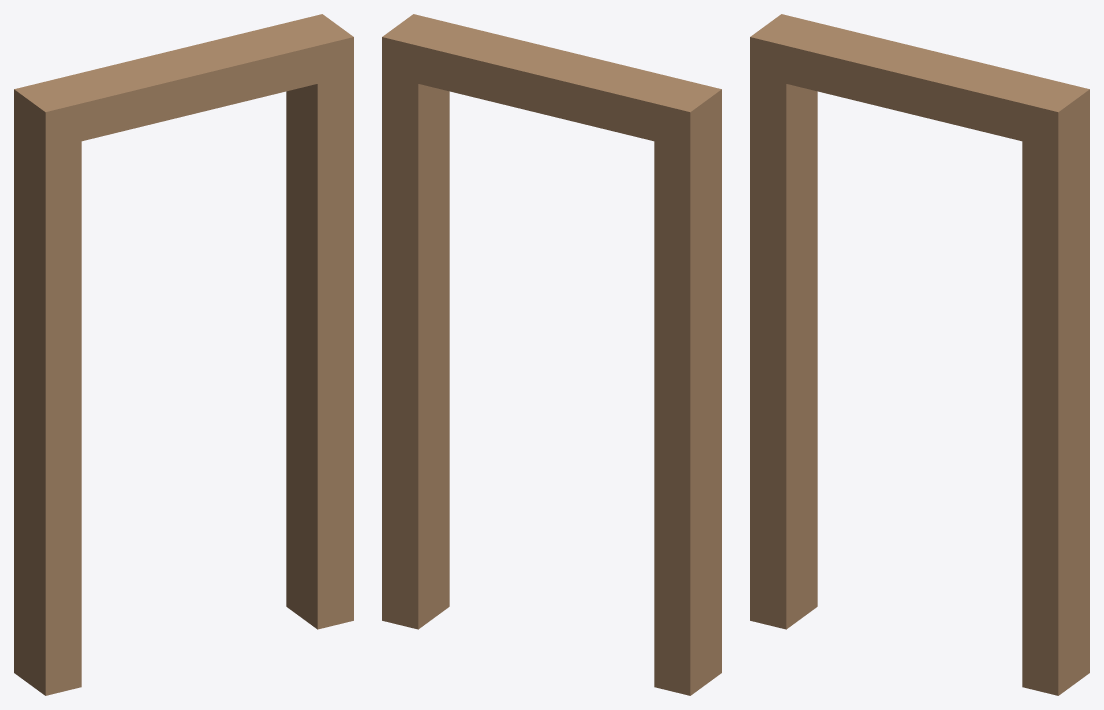
The model's file is b-doorframe.glb.
3 renders of one model, left to right at view 1: azimuth 30°, elevation 25°; view 2: azimuth 150°, elevation 25°; view 3: azimuth 330°, elevation 25°, orthographic.
Parts seen in each view (by area): view 1: b-doorframe; view 2: b-doorframe; view 3: b-doorframe.
Part boxes in pixels (bbox=[...]): b-doorframe: bbox=[14, 14, 353, 695]; b-doorframe: bbox=[382, 14, 721, 695]; b-doorframe: bbox=[750, 14, 1089, 695].
Bounding box in the file's own units: 1.36 × 2.46 × 0.24.
